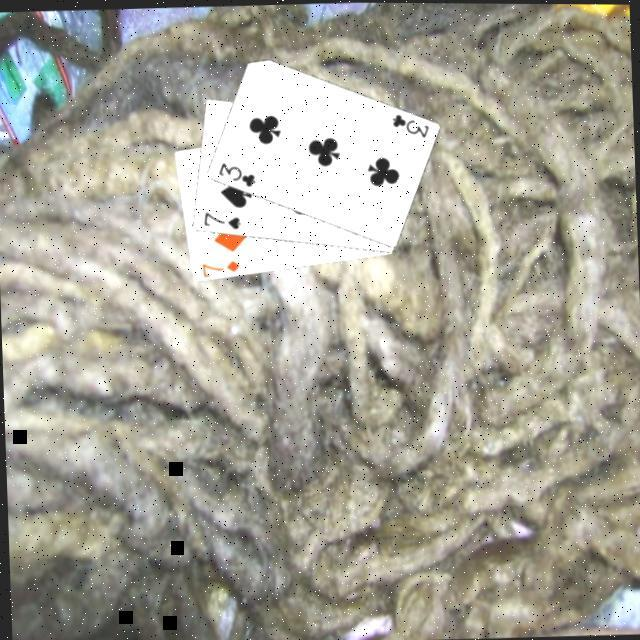3C: (212, 155, 256, 188), (386, 107, 430, 138)
7D: (196, 254, 241, 276)
7S: (197, 205, 242, 231)
